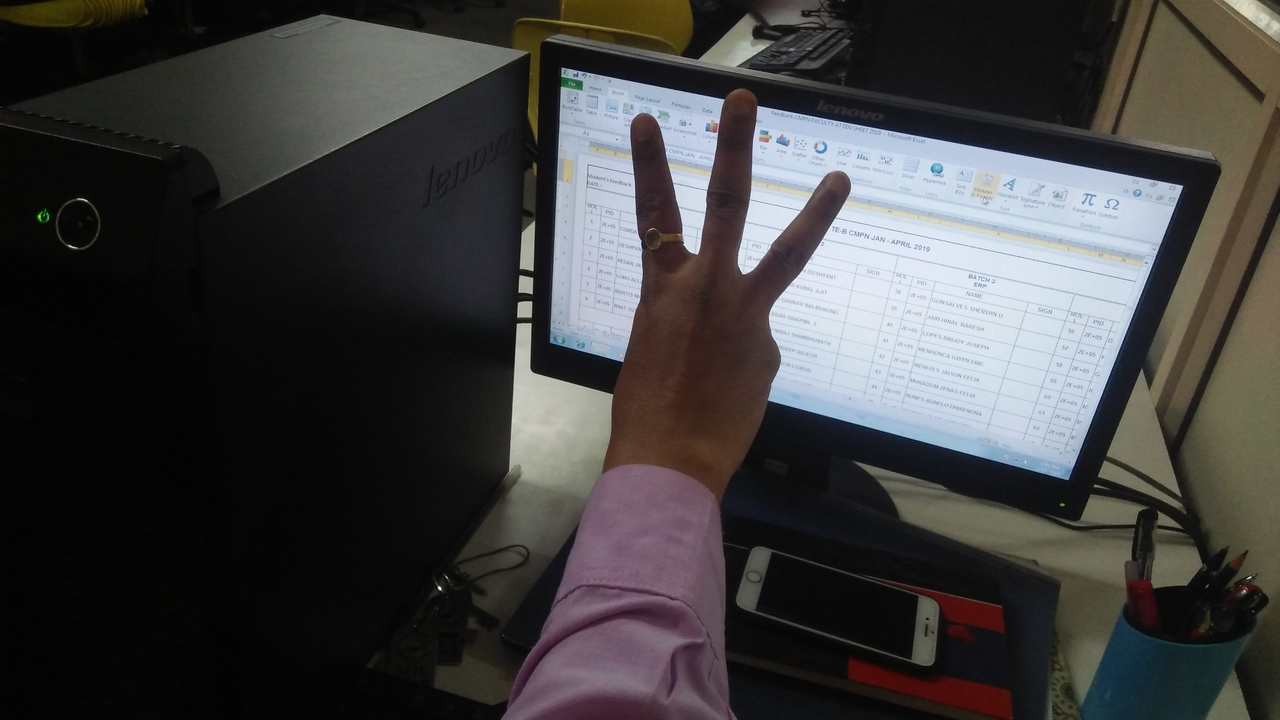fingertip: (802, 160, 862, 206), (714, 78, 764, 122), (622, 102, 672, 146)
